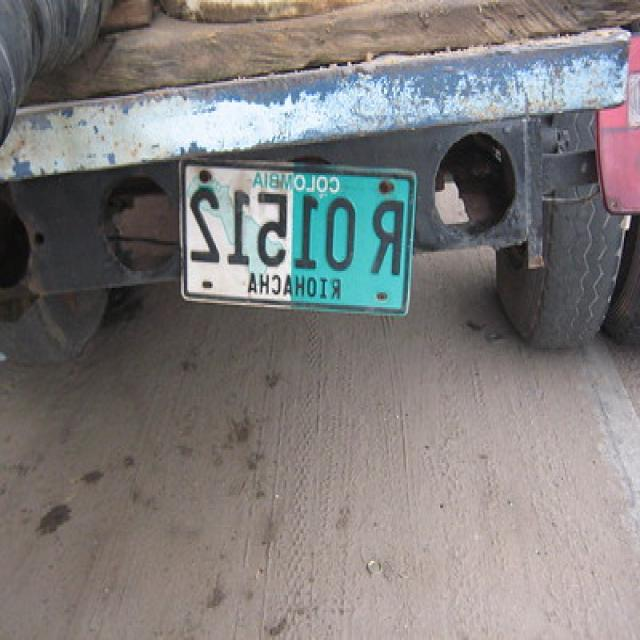placas: (189, 180, 403, 290)
